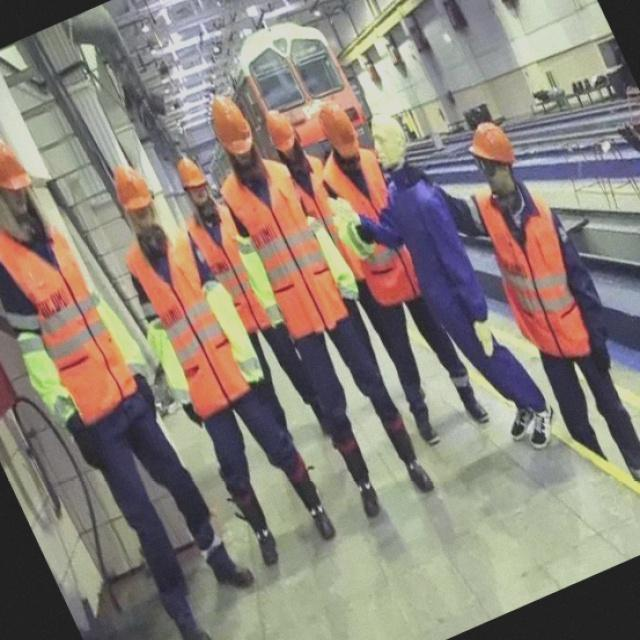helmet: (208, 89, 258, 160), (467, 114, 520, 165), (259, 106, 303, 158), (174, 147, 218, 198), (318, 104, 362, 155), (112, 160, 156, 211), (0, 141, 34, 192)
safety_vest: (0, 223, 143, 426), (213, 158, 344, 362), (470, 172, 601, 376), (121, 220, 252, 423), (318, 134, 449, 336), (190, 202, 270, 356), (275, 152, 347, 295)
